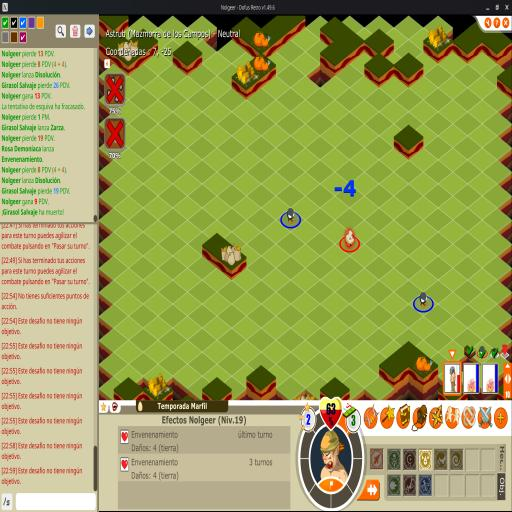Enemigos: (418, 291, 430, 309), (286, 208, 297, 224)
Personaje: (344, 228, 356, 248)
